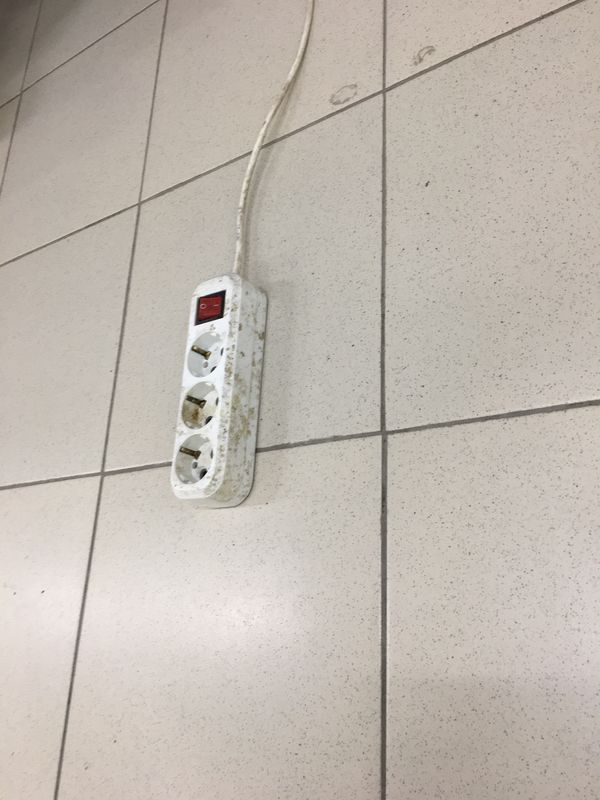socket: (166, 274, 272, 512)
